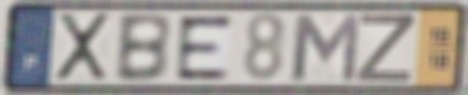8: (240, 9, 289, 85)
B: (112, 10, 174, 85)
E: (175, 13, 235, 83)
M: (290, 11, 363, 85)
X: (54, 11, 113, 84)
Z: (353, 12, 417, 85)
